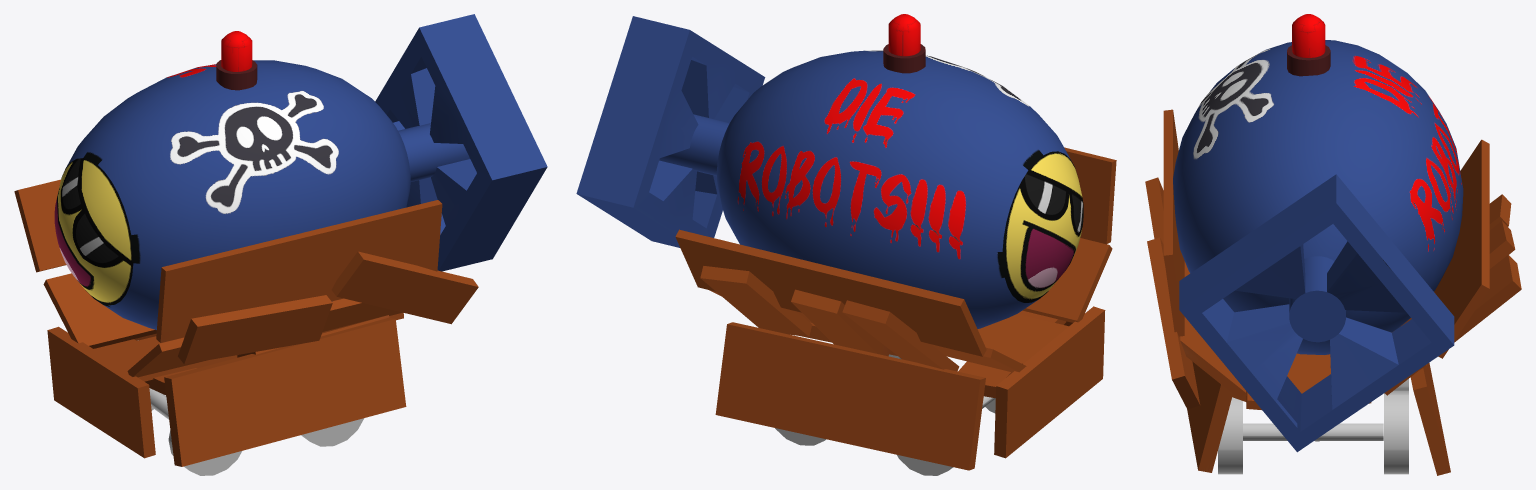
File: payload.fbx
3 views of the same model, side by side, from view 1: azimuth 30°, elevation 25°; view 2: azimuth 150°, elevation 25°; view 3: azimuth 270°, elevation 25° (orthographic). The views are drawn at different scales.
Parts seen in each view (by area): view 1: Sphere.001, Cube.008, Cube.003, Cube.002, Cube; view 2: Sphere.001, Cube.003, Cube.008, Cube, Cube.002; view 3: Sphere.001, Cube.008, Cube.002, Cube.003, Cube.
Boxes of the visible parts, x1,y1,x2,y2 form: Sphere.001: (54,14,547,329); Cube.008: (14,179,478,395); Cube.003: (47,317,406,466); Cube.002: (138,340,363,475); Cube: (216,31,257,90); Sphere.001: (576,16,1083,328); Cube.003: (715,306,1105,470); Cube.008: (675,147,1116,398); Cube: (883,14,925,73); Cube.002: (775,354,995,475); Sphere.001: (1173,40,1463,452); Cube.008: (1145,109,1521,409); Cube.002: (1218,379,1408,474); Cube.003: (1187,361,1450,475); Cube: (1287,14,1330,76).
Bounding box in the file's own units: 353 × 321 × 258.
